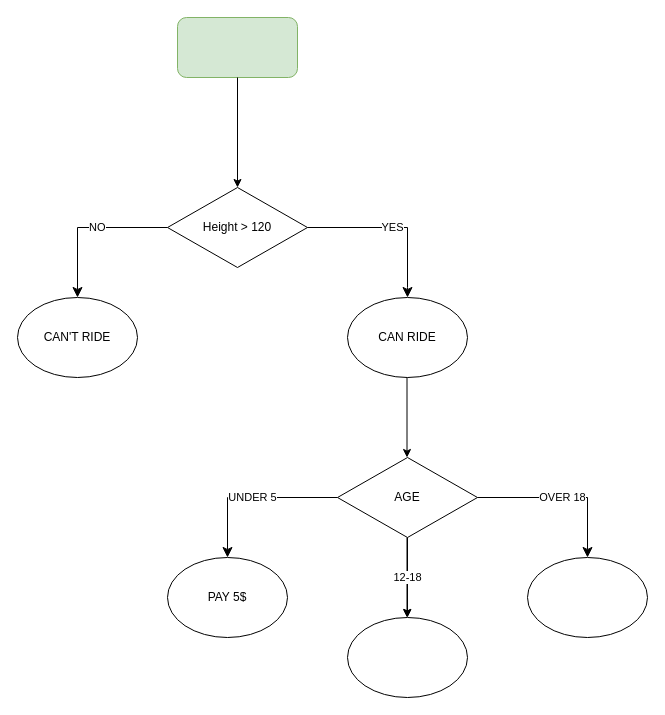
The diagram is 665 pixels wide and 715 high, and some of its shapes have lost their labels. Here are the shapes that lost their labels. From the top down, the centre of each, then its label:
At [237,47]: "START".
At [587,597]: "PAY 12$".
At [407,657]: "PAY 7$".
